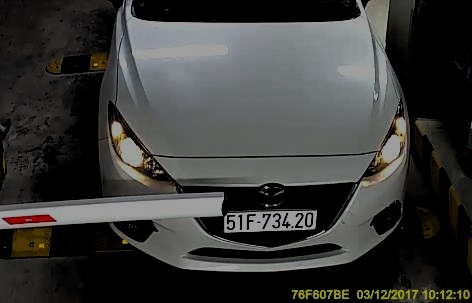plate: (225, 209, 318, 234)
